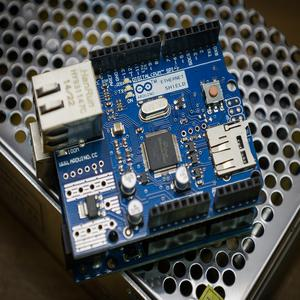duino: (37, 19, 256, 262)
